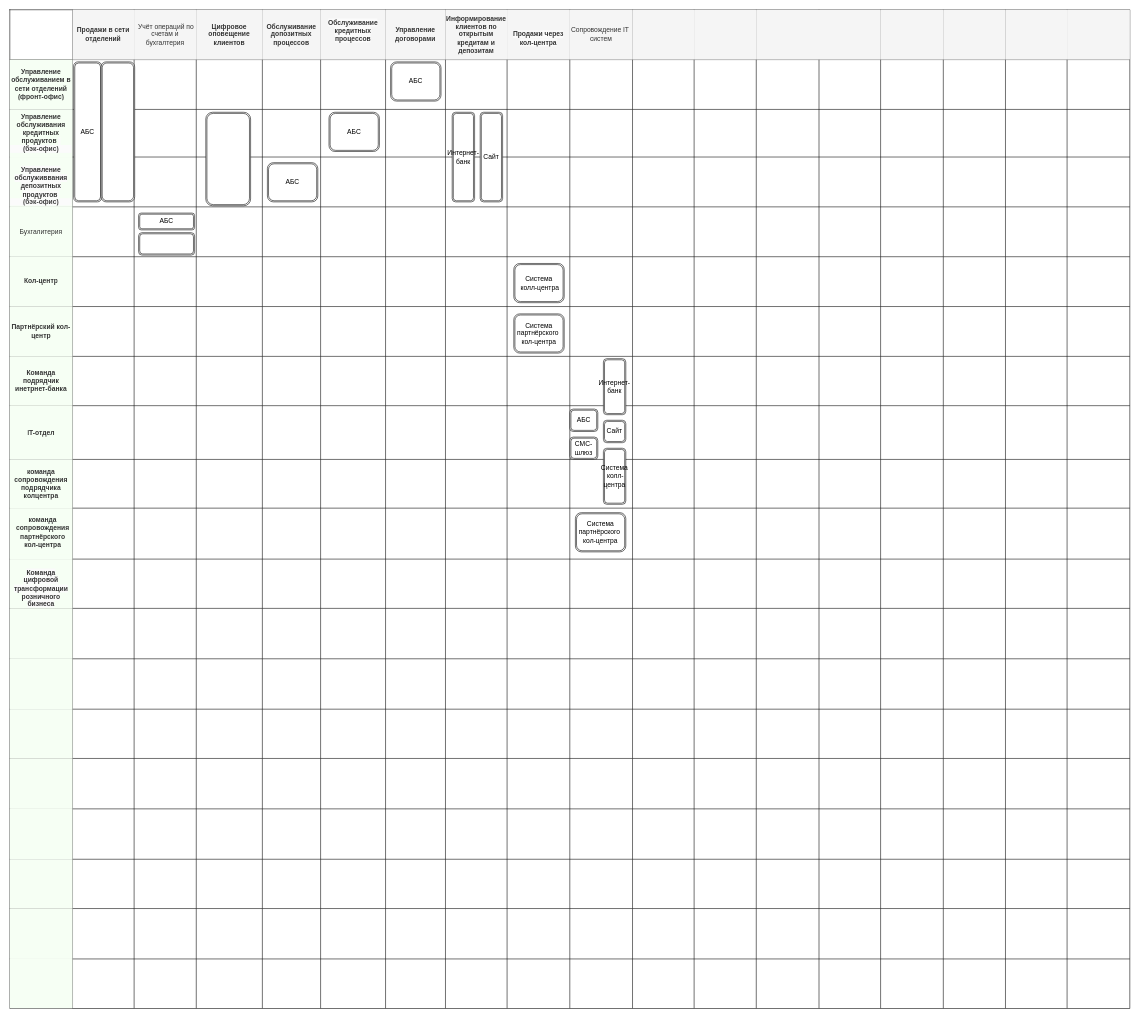
This 1140x1019 diagram has some shape labels left out. The centre of each missing label's shape, as x and y in pixels:
"Бухгалтерская система" belongs at pixel 166 243.
"Почтовы сервер" belongs at pixel 118 131.
"СМС-шлюз и телеком оператор" belongs at pixel 228 159.
